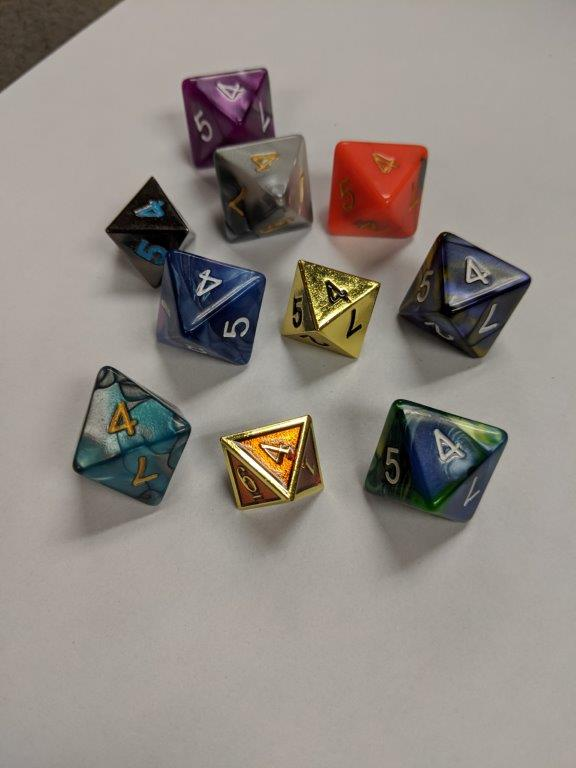d8-4: (361, 395, 510, 525), (70, 366, 197, 511), (397, 233, 532, 359), (153, 251, 266, 366), (218, 414, 327, 513), (278, 257, 381, 361), (324, 139, 429, 241), (214, 132, 308, 245), (104, 176, 197, 281), (182, 67, 276, 165)
